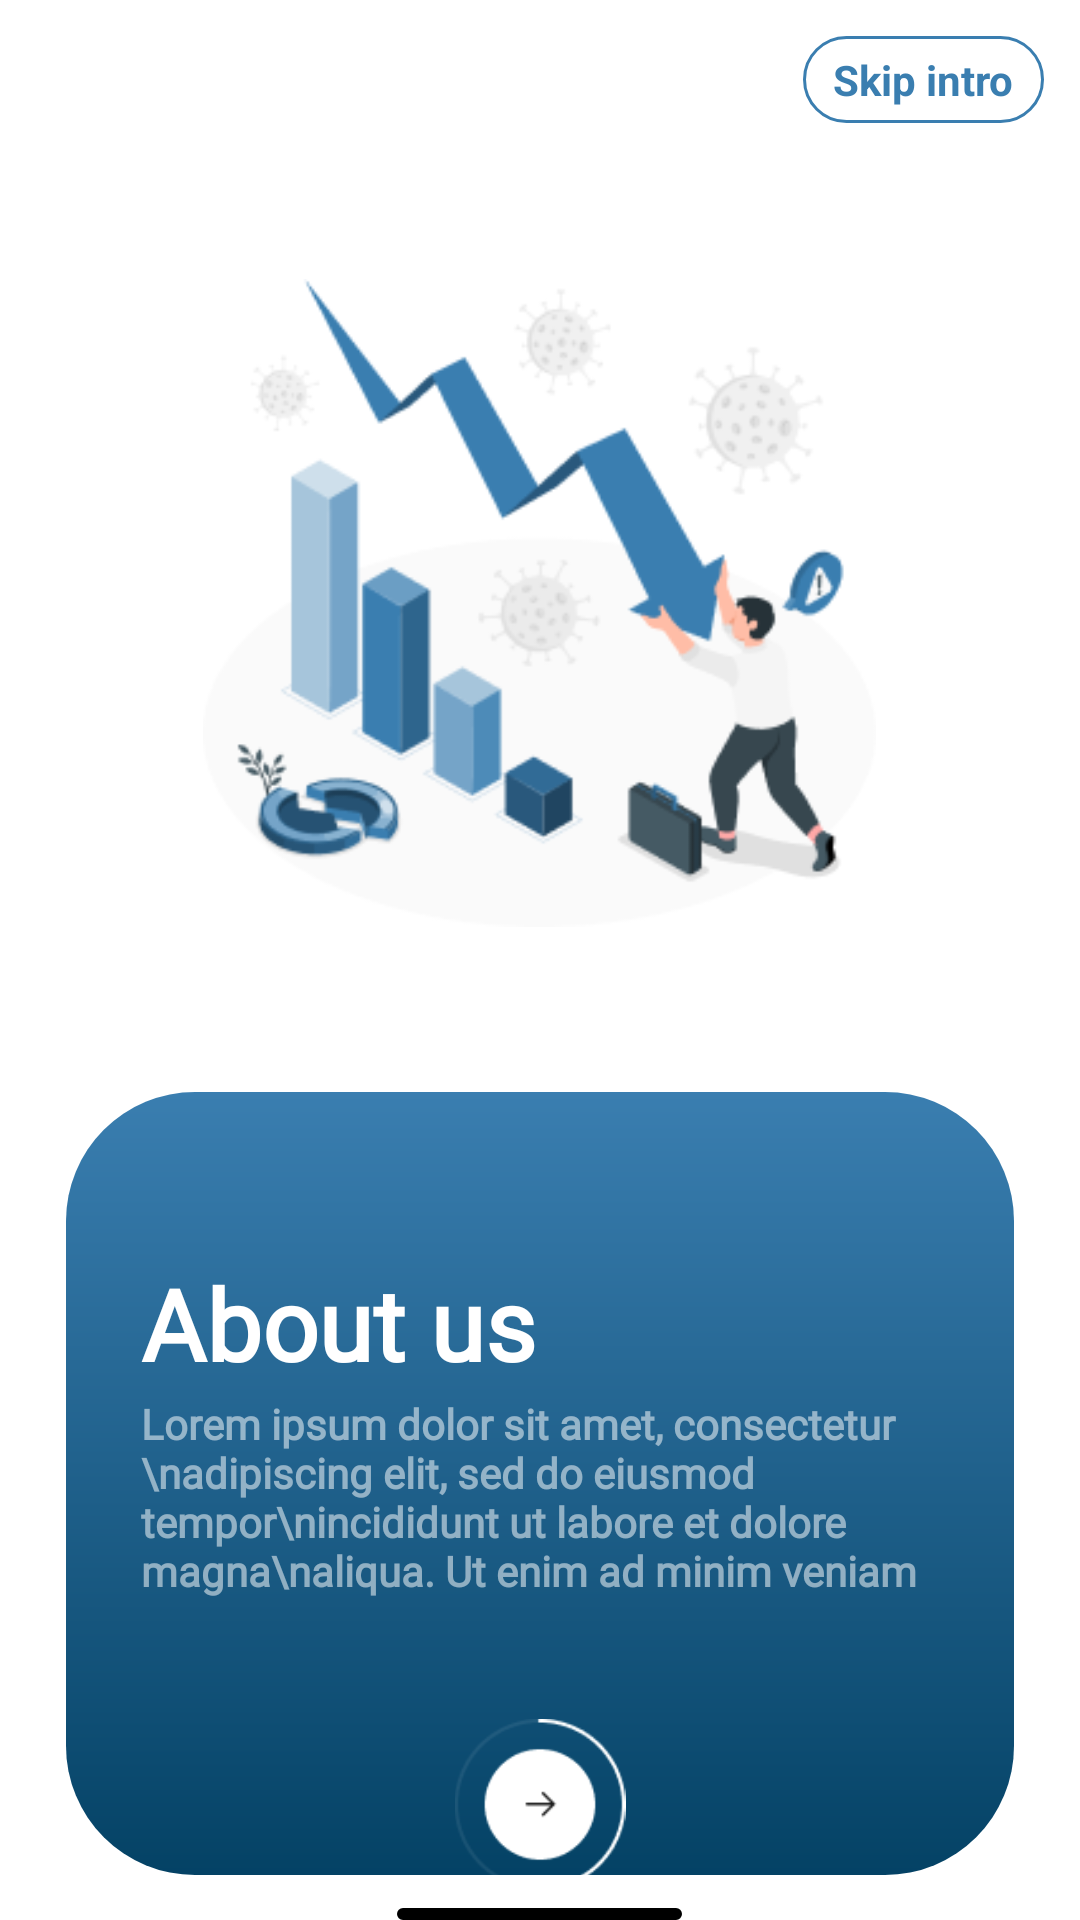

Icons on this 1080w x 1920h Android screen, each with the point to tap as point (x, y):
progressbtn: point (540, 1804)
